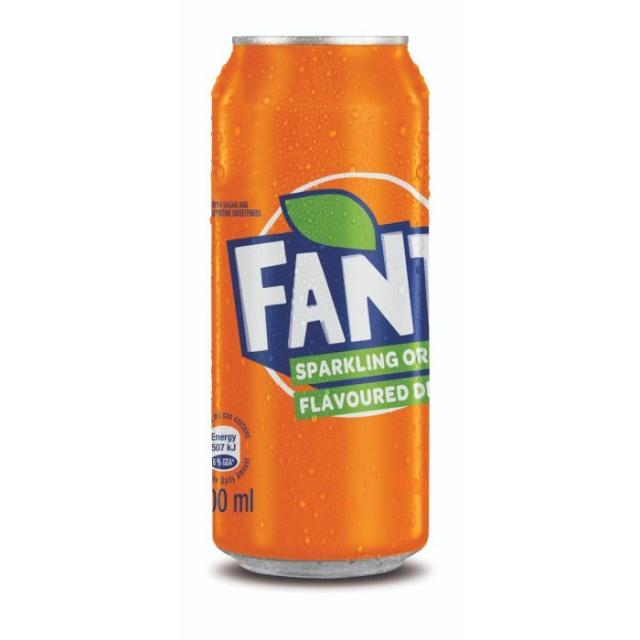fanta: (205, 24, 444, 588)
